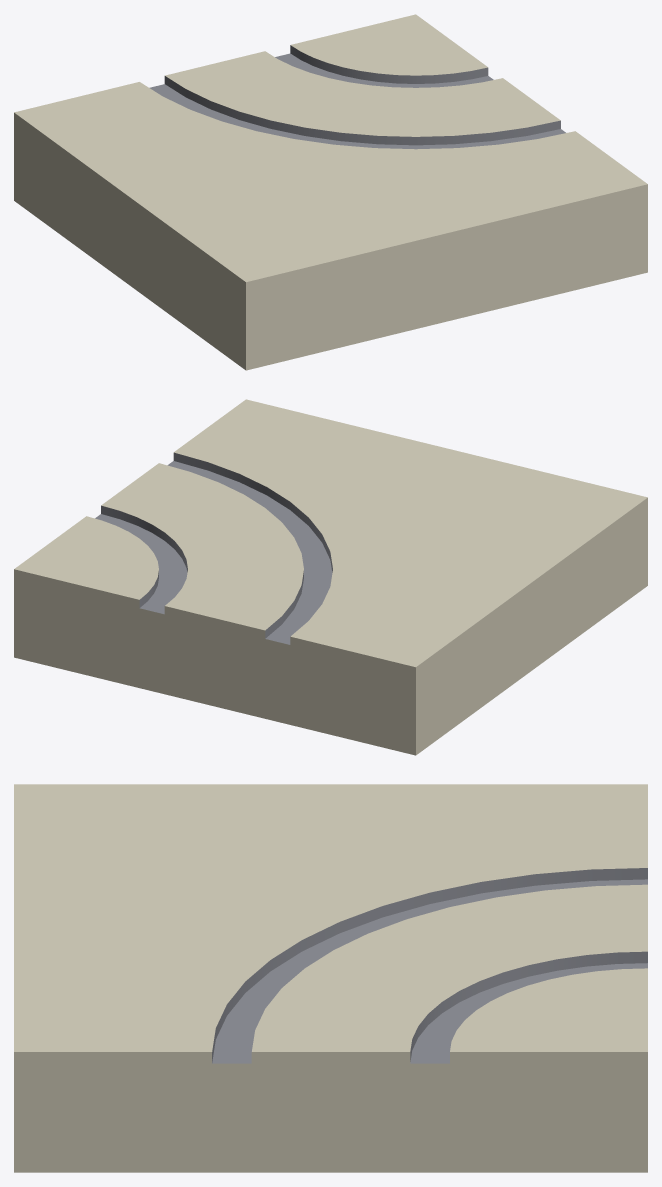
The model's file is roadTile_086.fbx.
3 renders of one model, top to bottom at view 1: azimuth 30°, elevation 25°; view 2: azimuth 150°, elevation 25°; view 3: azimuth 270°, elevation 25°, orthographic. The views are drawn at different scales.
Visible parts, largest first — view 1: roadTile_086; view 2: roadTile_086; view 3: roadTile_086.
Part boxes in pixels (box(x1,y1,x2,y2)): roadTile_086: box(14, 14, 647, 370); roadTile_086: box(14, 399, 647, 755); roadTile_086: box(14, 784, 647, 1172).
Bounding box in the file's own units: 118 × 24.8 × 118.
